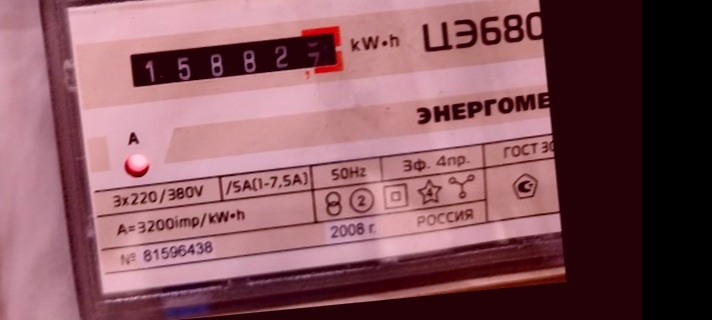1: (142, 54, 159, 83)
2: (273, 40, 291, 70)
5: (174, 52, 195, 80)
7: (305, 47, 323, 66)
8: (207, 49, 226, 78), (241, 44, 259, 74)
screen: (116, 15, 355, 100)
